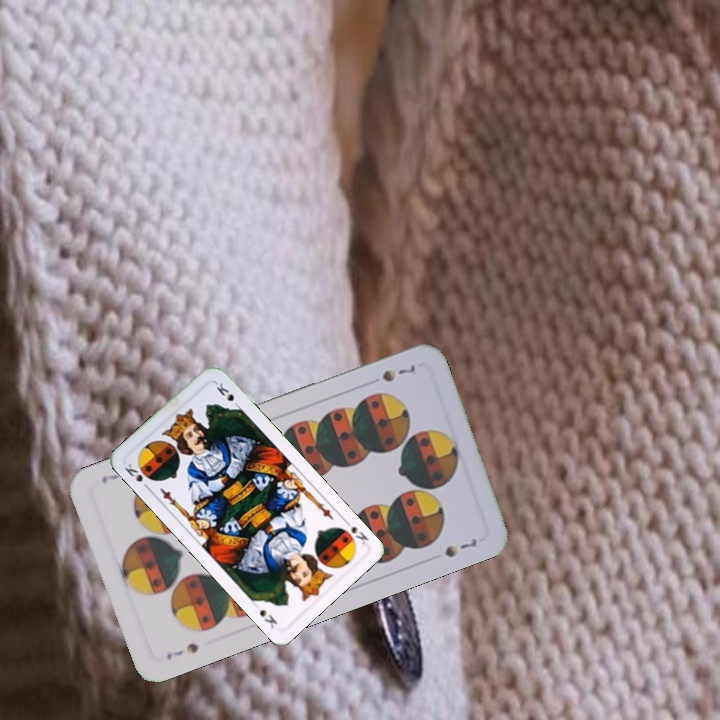S7: (378, 360, 418, 385), (162, 639, 202, 663)
SK: (120, 459, 153, 493), (339, 515, 371, 547)
